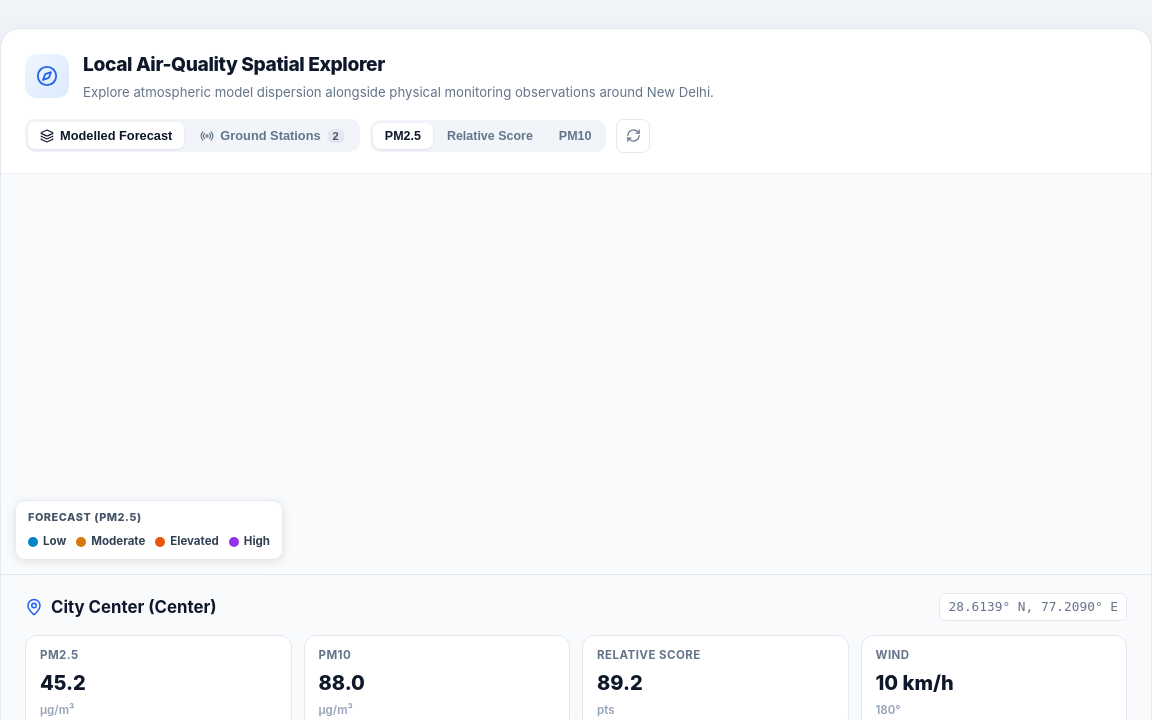
Test: AirQualityMap › allows switching to Ground-Station Observations layer with real station data
Expected: the text "2" is shown, top-left (327, 129), bottom-right (345, 143)
Switch to Ground Stations tab
Click the tab "Ground Stations 2": [273, 136] box top-left (188, 122), bottom-right (357, 149)
(page scrolled)
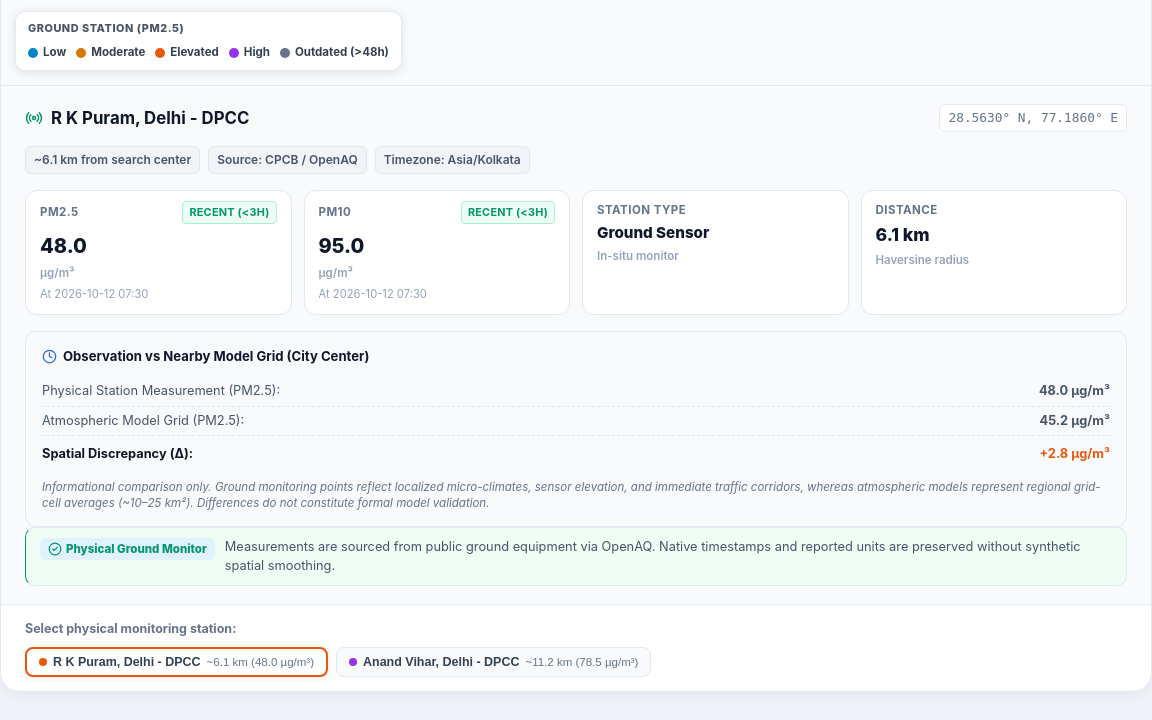
Expected: the text "Source: CPCB / OpenAQ" is shown, top-left (208, 146), bottom-right (367, 174)
Expected: the text "Physical Ground Monitor" is shown, top-left (66, 540), bottom-right (207, 558)
Expected: the text "Measurements are sourced from public ground equipment via OpenAQ" is shown, top-left (225, 539), bottom-right (1081, 572)
